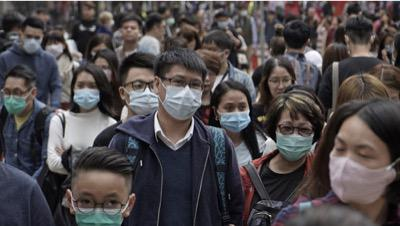with_mask: (327, 134, 395, 206), (159, 72, 202, 120), (71, 187, 125, 225), (274, 118, 315, 161), (125, 75, 159, 116), (218, 100, 252, 133), (72, 79, 101, 111), (2, 84, 29, 115), (21, 30, 43, 53), (94, 62, 113, 81), (44, 40, 63, 57), (216, 17, 229, 30)
without_mask: (266, 74, 292, 98), (202, 67, 216, 94), (121, 22, 139, 41), (155, 23, 167, 39), (82, 6, 95, 17)
